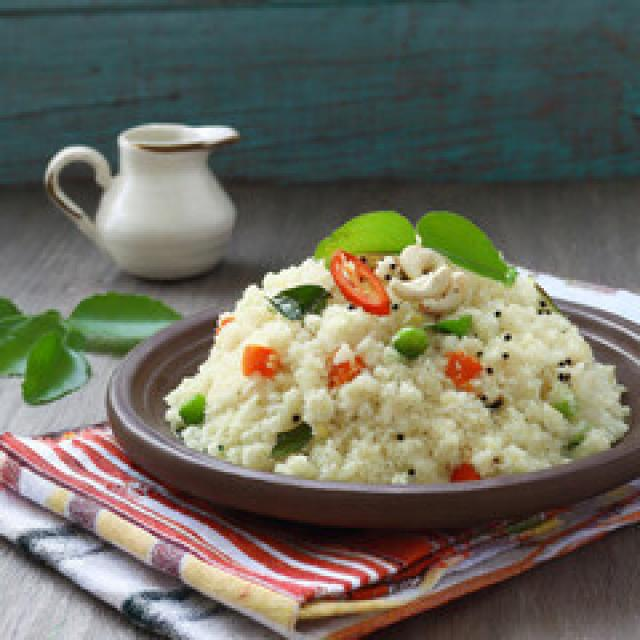UPMA: (163, 243, 627, 483)
